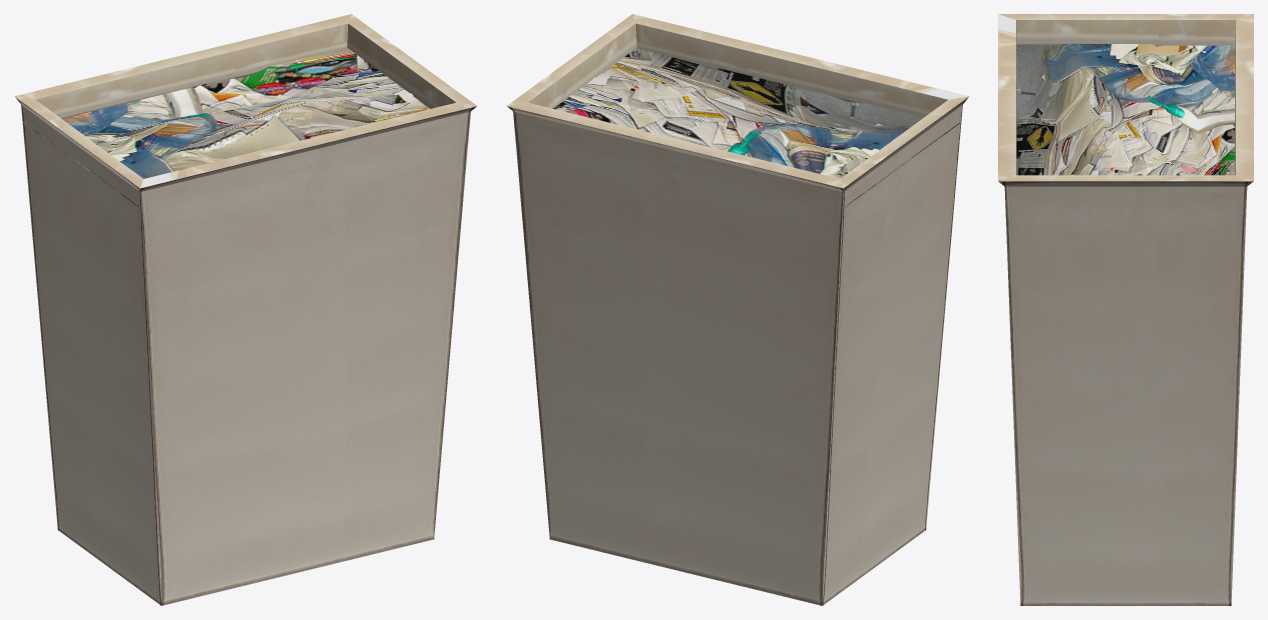
Rendered from Trash Can_full.fbx.
The picture shows the model from 3 angles, left to right: view 1: azimuth 30°, elevation 25°; view 2: azimuth 150°, elevation 25°; view 3: azimuth 270°, elevation 25°; orthographic projection.
Visible parts, largest first — view 1: Trash_Can, Plane03; view 2: Trash_Can, Plane03; view 3: Trash_Can, Plane03.
Boxes of the visible parts, x1=… form: Trash_Can: x1=15, y1=14, x2=476, y2=605; Plane03: x1=22, y1=47, x2=429, y2=206; Trash_Can: x1=507, y1=14, x2=968, y2=605; Plane03: x1=553, y1=48, x2=960, y2=207; Trash_Can: x1=998, y1=14, x2=1253, y2=605; Plane03: x1=1016, y1=43, x2=1235, y2=175.
Bounding box in the file's own units: 2.03 × 2.5 × 1.32.
